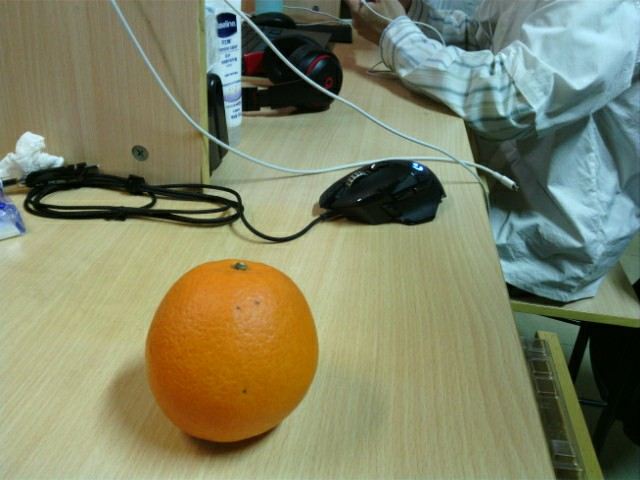normal_orange: (147, 260, 319, 441)
